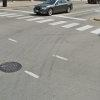Crosswalk: (9, 8, 100, 45)
